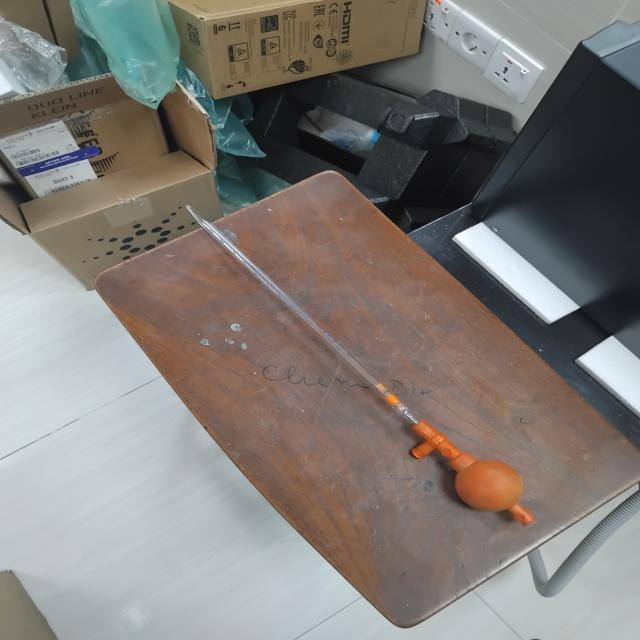Volumetric_Pipet: (163, 175, 557, 545)
